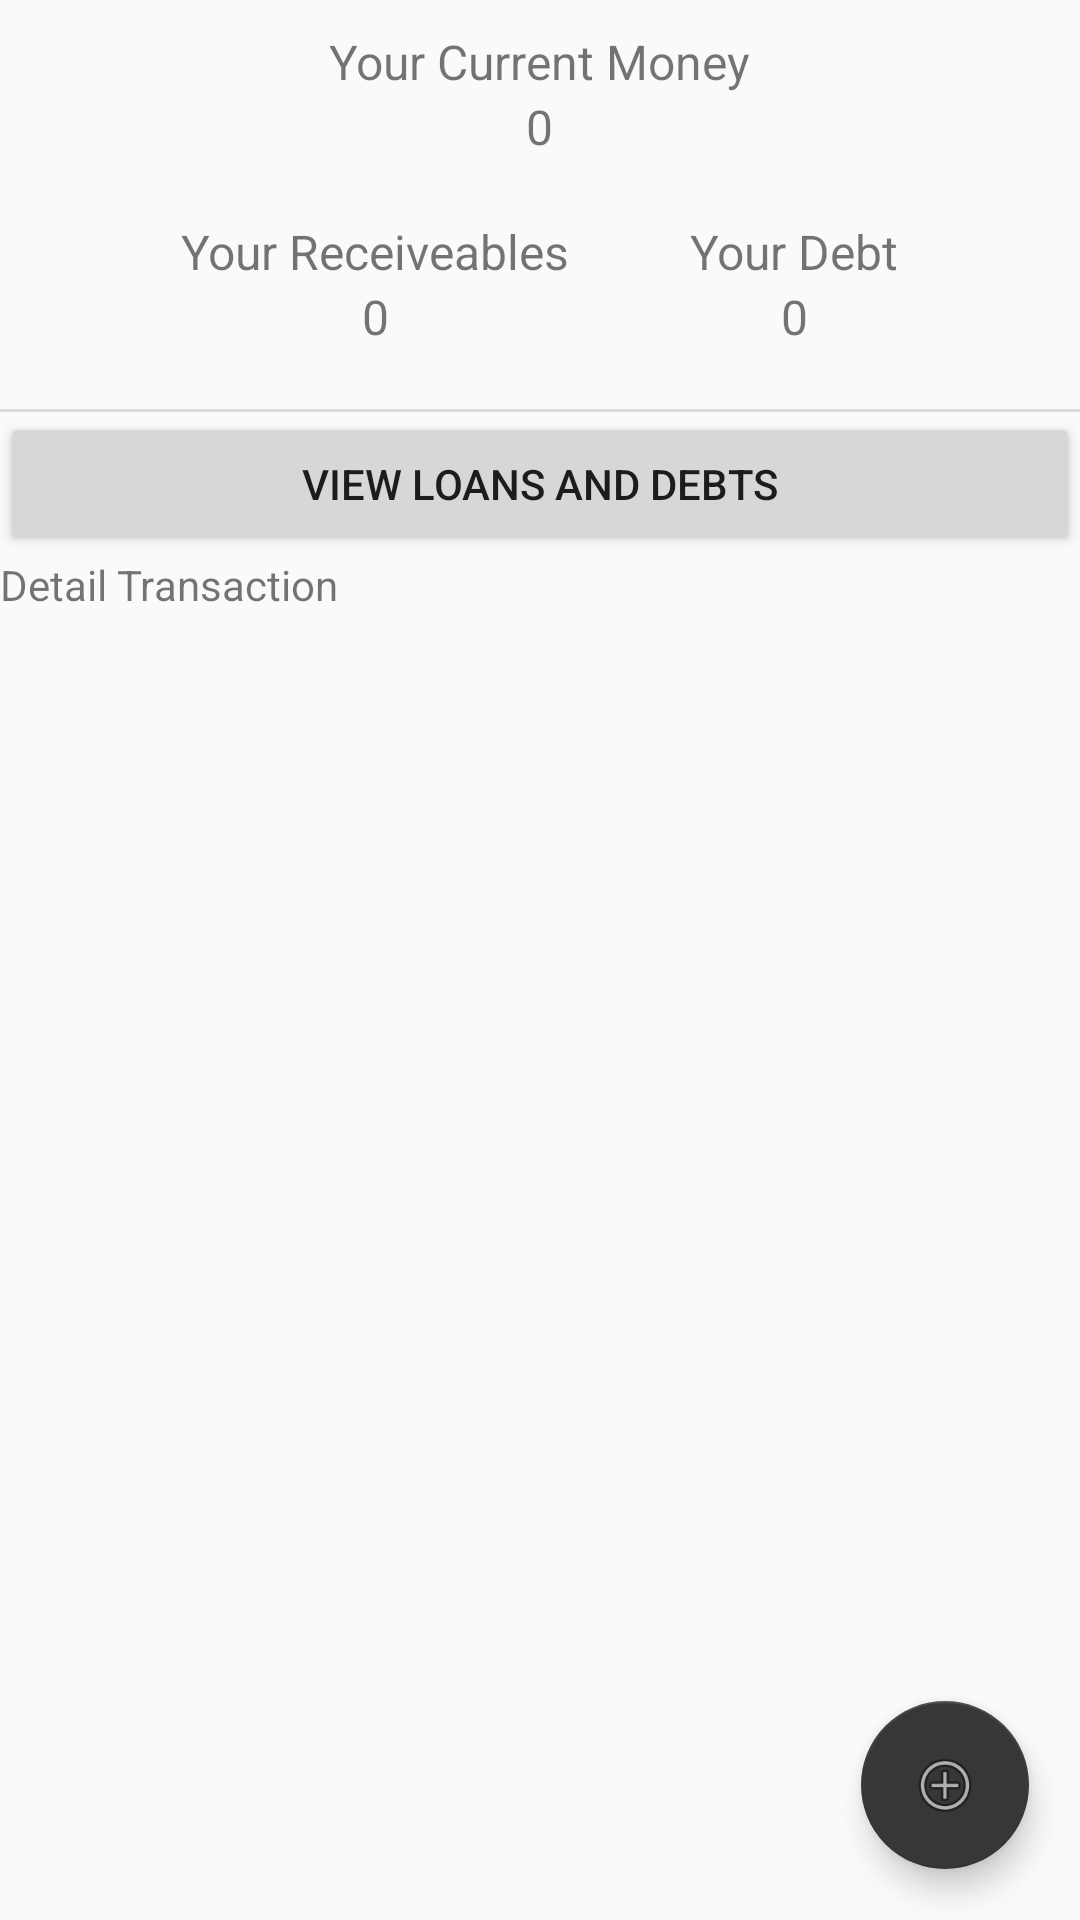

Locate icon controls on the screen. Image size 1080*1920, boxes as Rect(x1, y1, x2, y2).
add: Rect(861, 1701, 1029, 1869)
